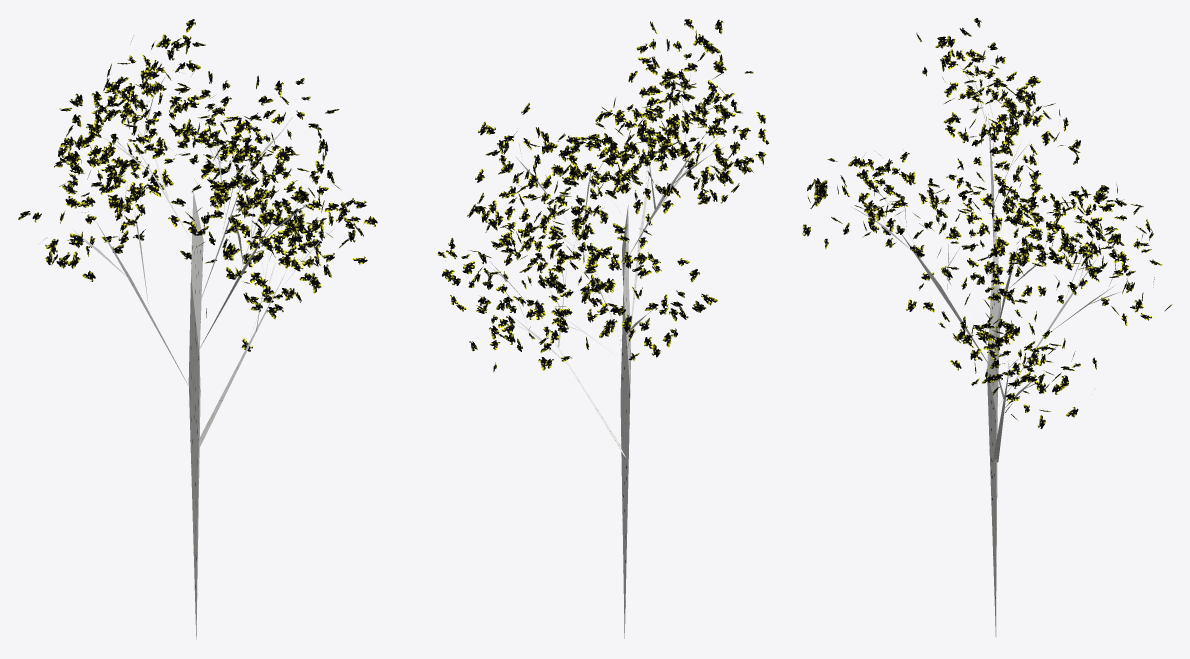
Rendered from birch_pale_v02_LOD2.fbx.
3 views of the same model, side by side, from view 1: azimuth 30°, elevation 25°; view 2: azimuth 150°, elevation 25°; view 3: azimuth 270°, elevation 25° (orthographic). The views are drawn at different scales.
Parts seen in each view (by area): view 1: birch_pale_v02_LOD2; view 2: birch_pale_v02_LOD2; view 3: birch_pale_v02_LOD2.
Boxes of the visible parts, box(x1,y1,x2,y2) form: birch_pale_v02_LOD2: box(18, 19, 377, 639); birch_pale_v02_LOD2: box(437, 19, 769, 638); birch_pale_v02_LOD2: box(802, 18, 1172, 637).
Size of the model in its own units: 971 by 1037 by 1826.
2 materials, 2 textured.
